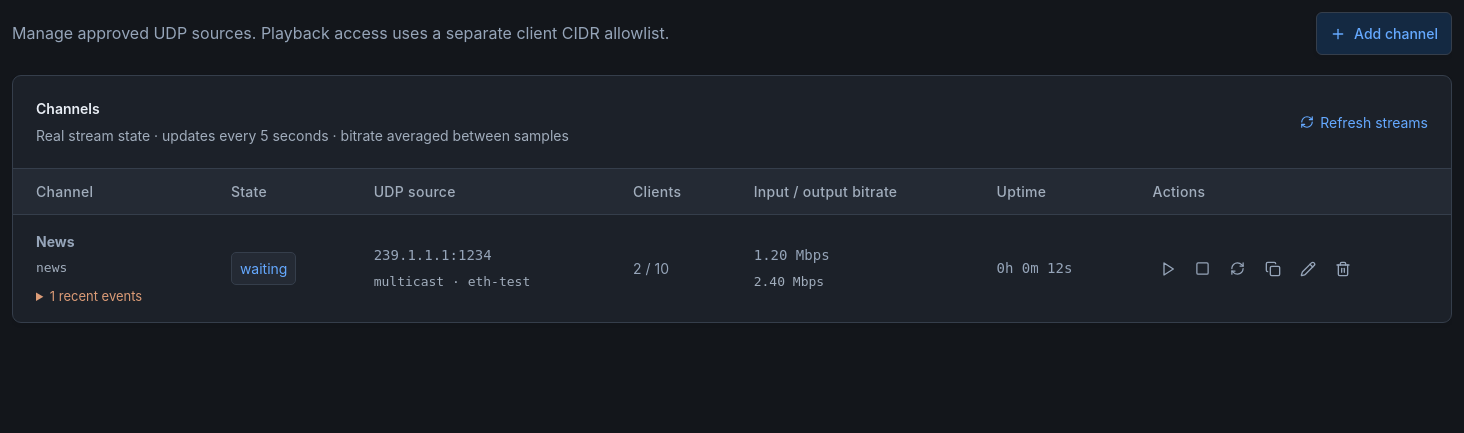
Test: stream management › surfaces rejected operations without fabricating success
Expected: the text "News" is shown, [36,233,75,250]
Click the button named "Start News". click: x=1168, y=268
box: [1153,252,1183,284]
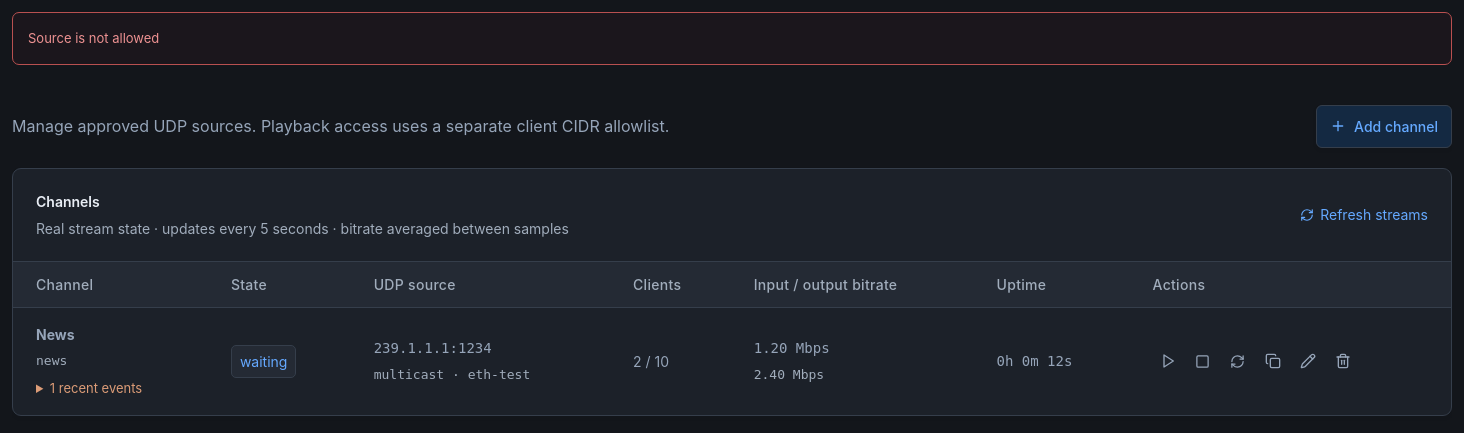
Expected: the message reads "Source is not allowed", [28,30,159,46]
